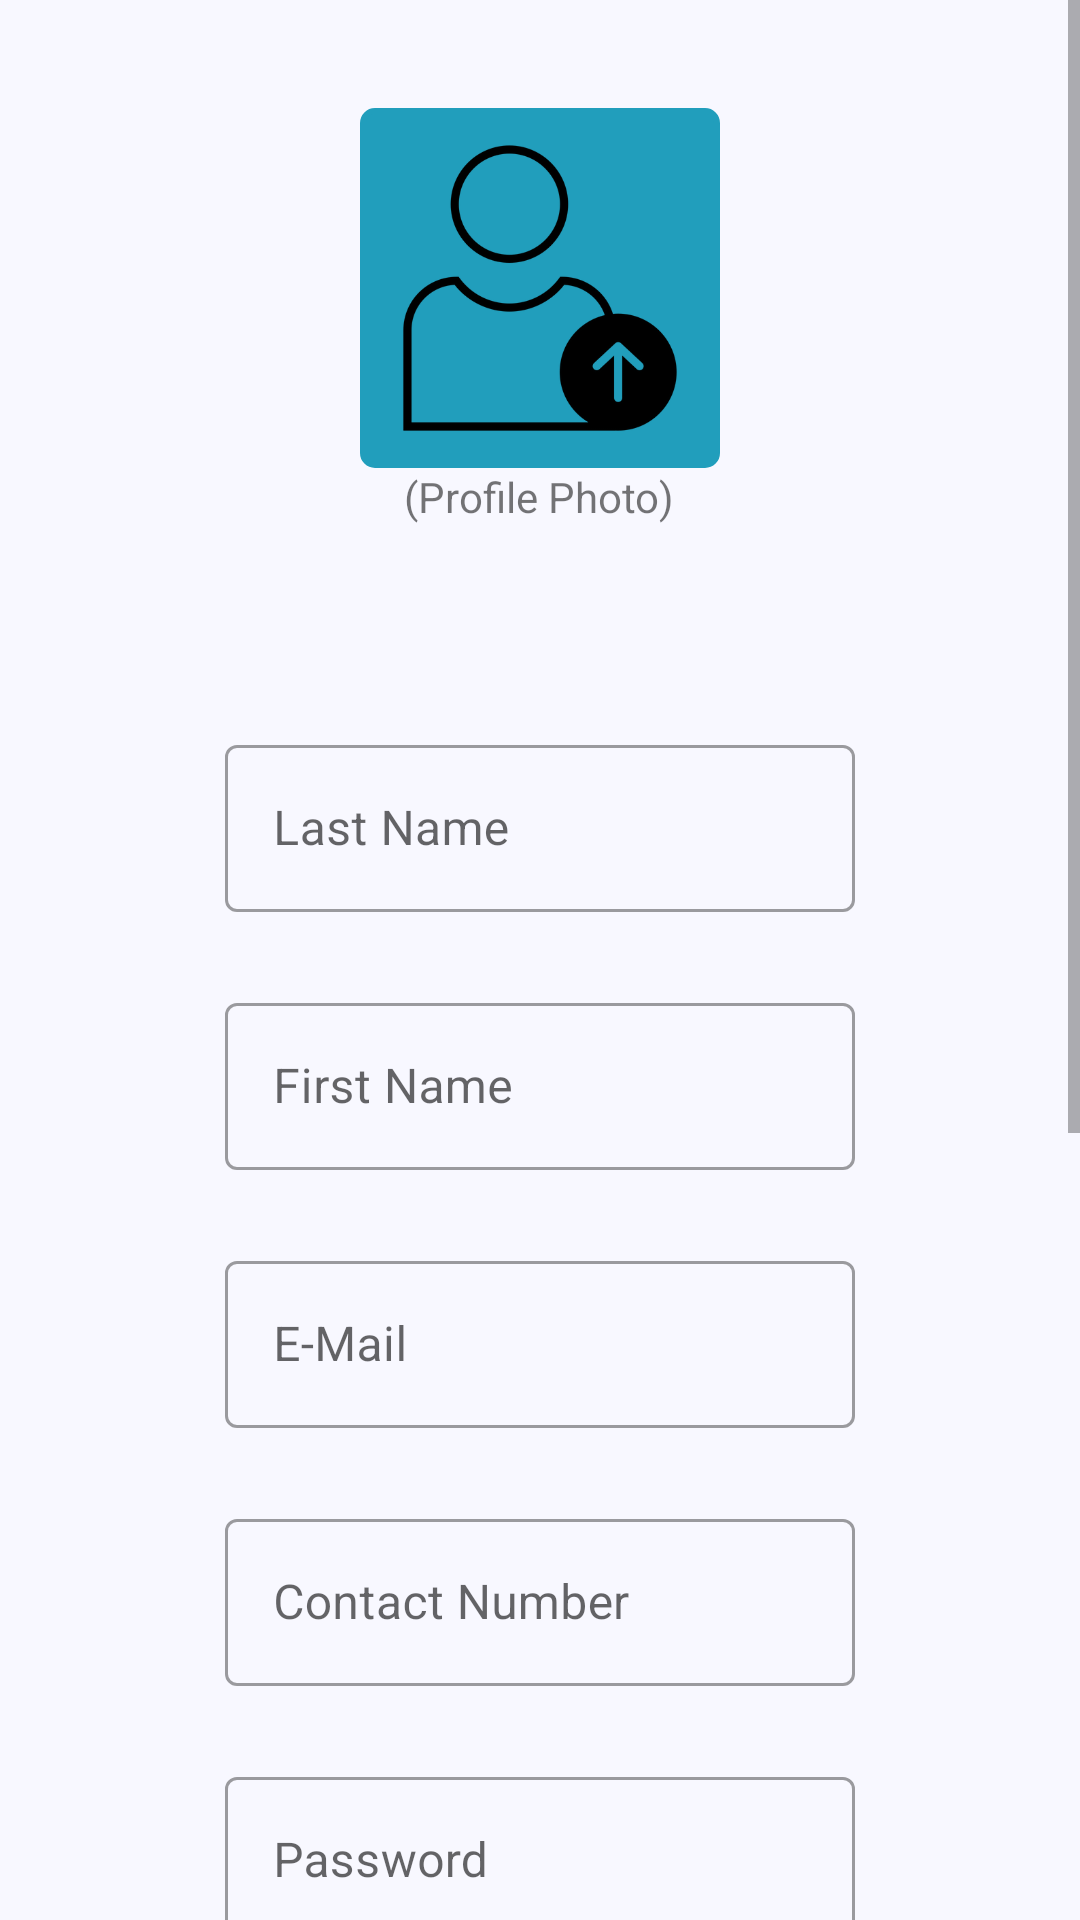

Icon click points for this 1080 x 1920 phone screenshot, format point (x, y):
upload profile: point (540, 288)
